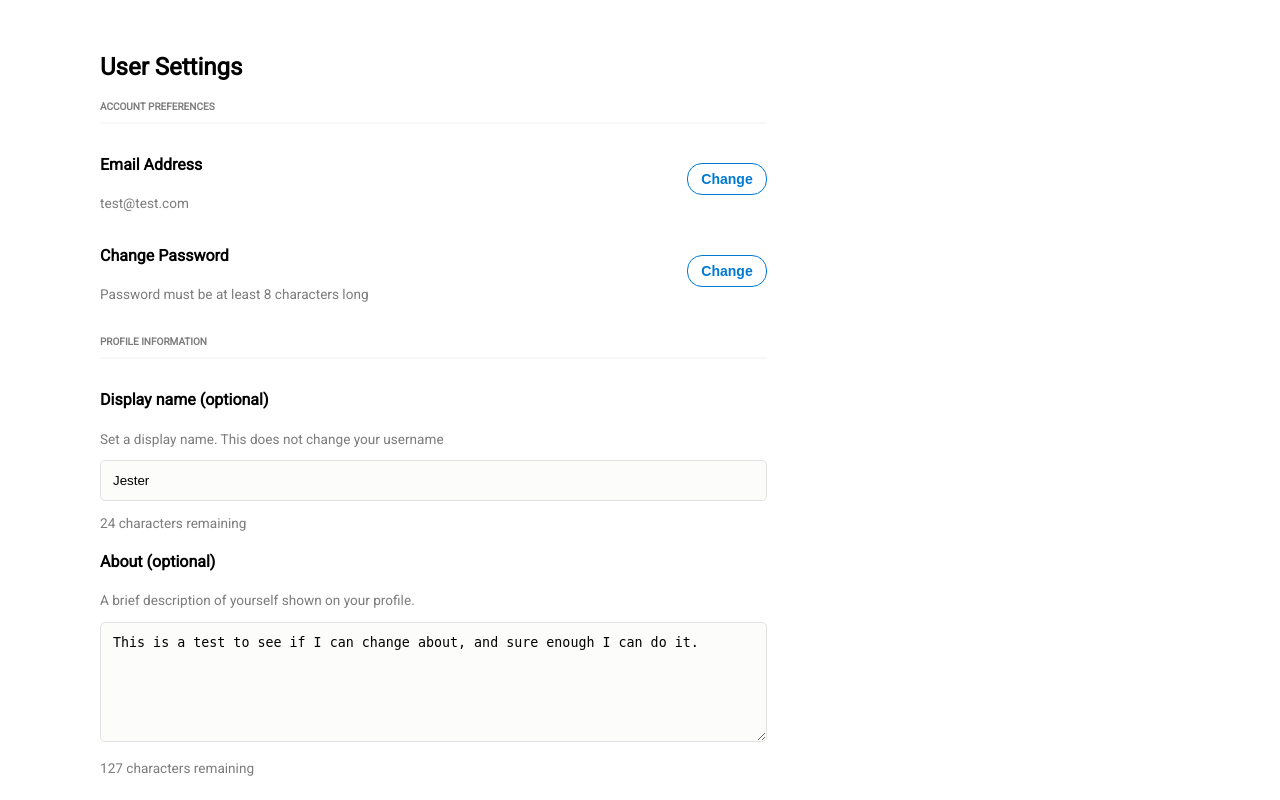
Test: Settings › Authenticated user can change their email › Save email button is disabled until both the inputs are filled
Click the button with test id "change-email-btn" at (727, 179), box top-left (687, 163), bottom-right (767, 195)
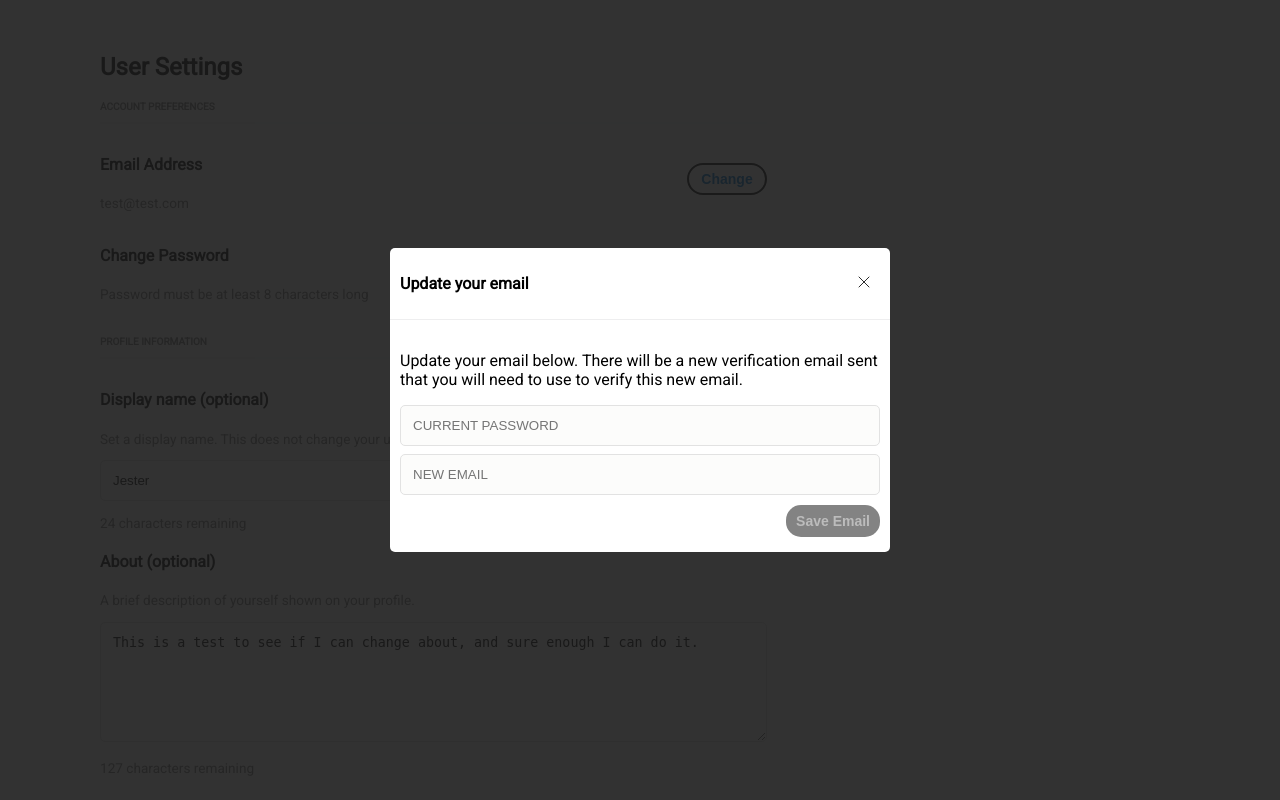
Type "123" into the password field with placeholder "CURRENT PASSWORD" at (640, 426), box top-left (400, 405), bottom-right (880, 446)
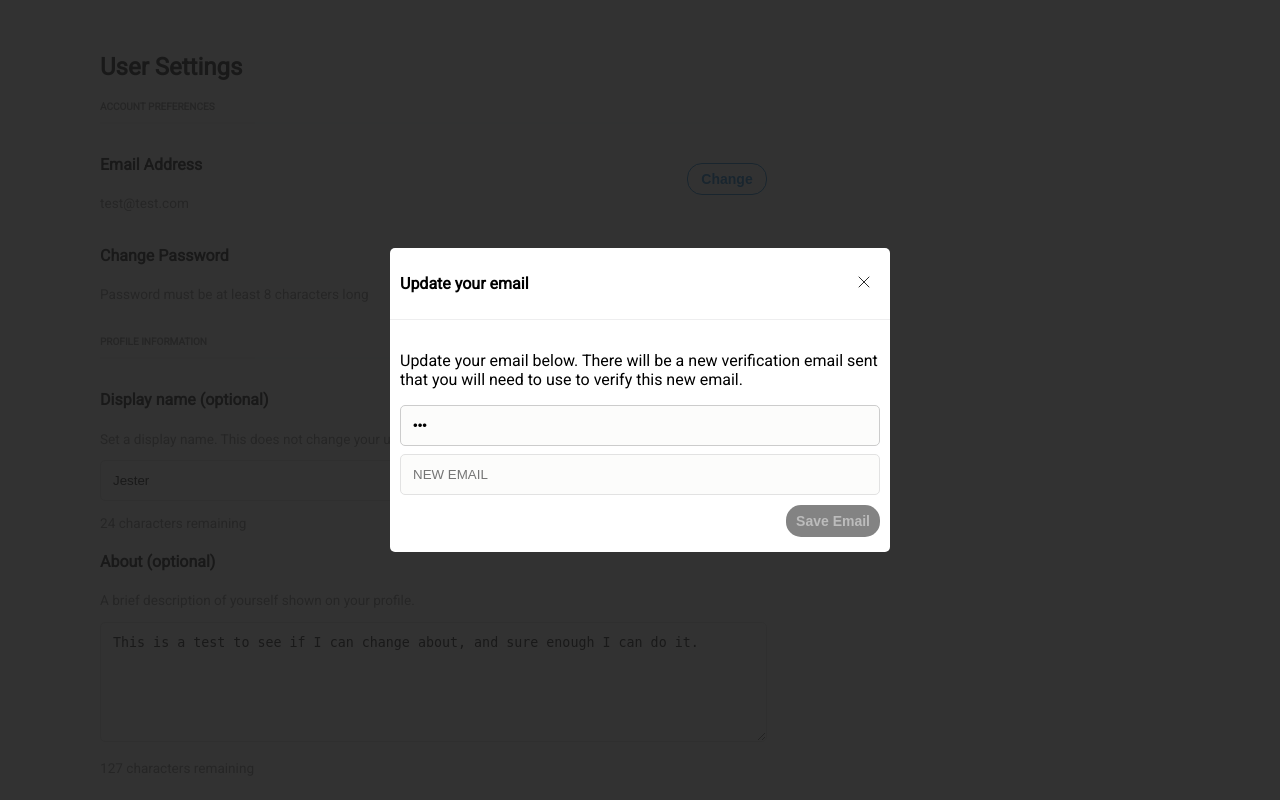
Check: the button "Save Email" is disabled, box top-left (786, 505), bottom-right (880, 537)
Type "123" into the field with placeholder "NEW EMAIL" at (640, 475), box top-left (400, 454), bottom-right (880, 495)
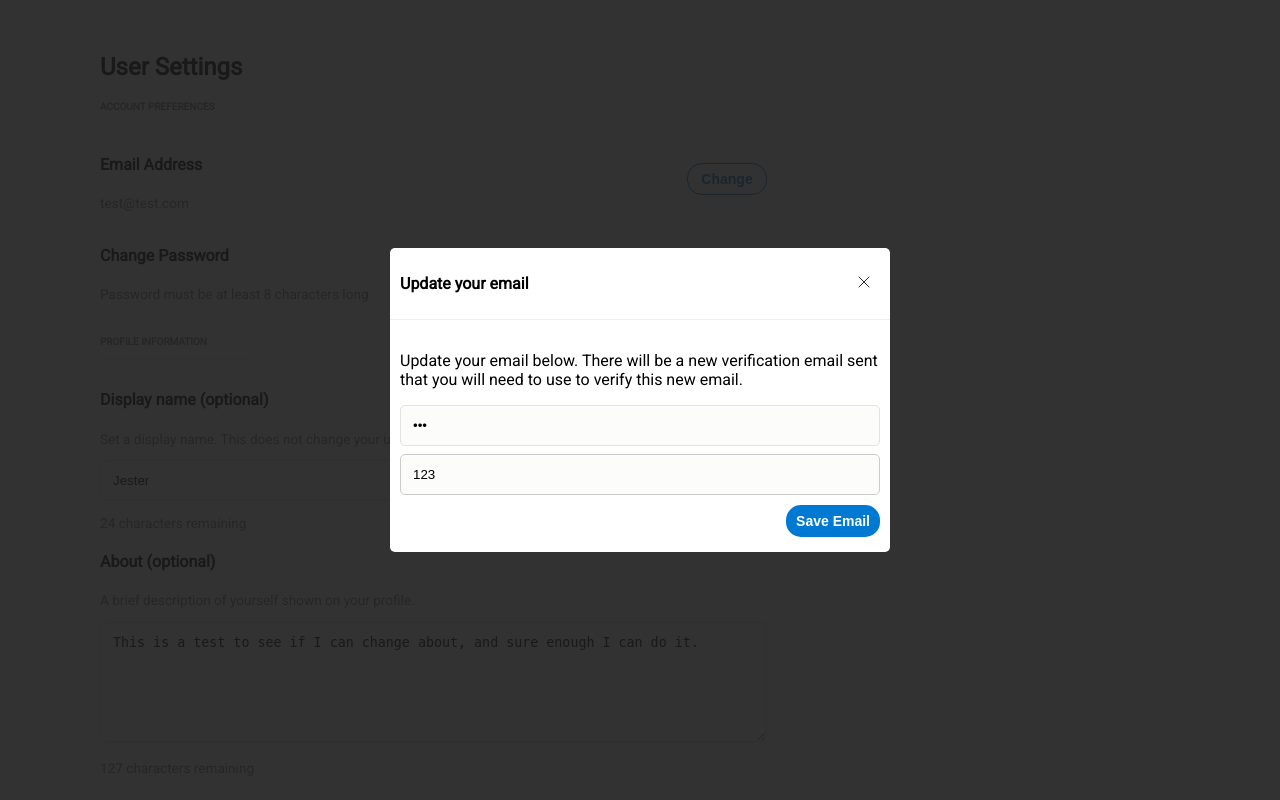
Check: the button "Save Email" is enabled, box top-left (786, 505), bottom-right (880, 537)
